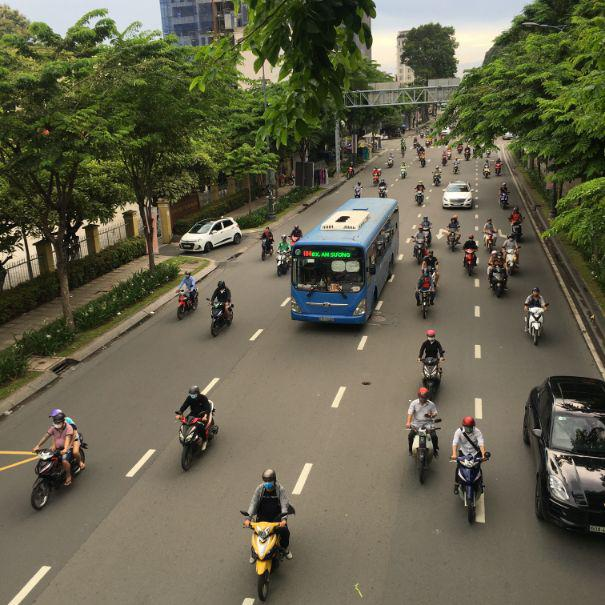bus: (289, 198, 400, 329)
car: (522, 373, 604, 546), (179, 218, 241, 253), (443, 180, 477, 210)
motorbike: (242, 512, 293, 604), (29, 444, 74, 510), (177, 413, 217, 472), (410, 419, 442, 478), (419, 354, 447, 403), (524, 304, 548, 347), (416, 274, 439, 315), (489, 256, 511, 298), (210, 300, 234, 338), (178, 291, 198, 318), (464, 246, 479, 277)
